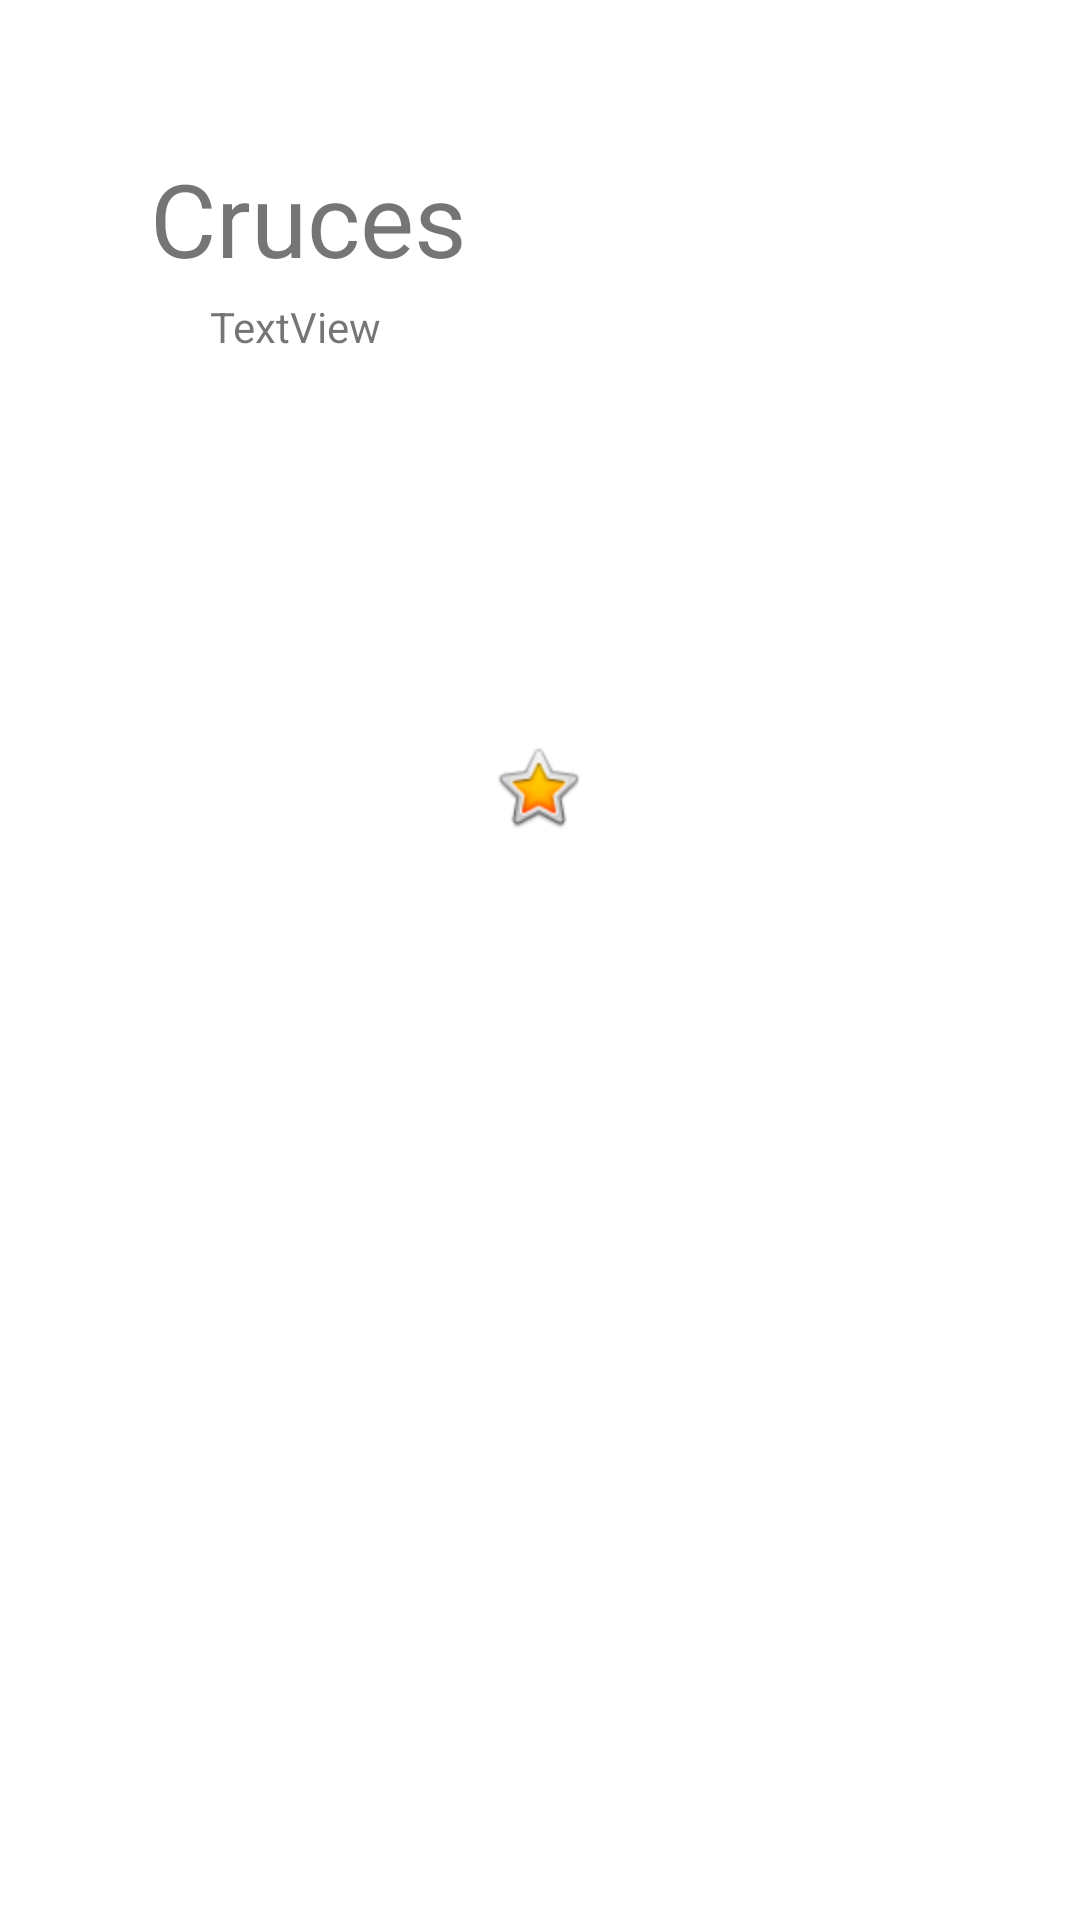

Where to tap for icons on this 1080*1920 app screen, as (x,y):
star on: (539,788)
